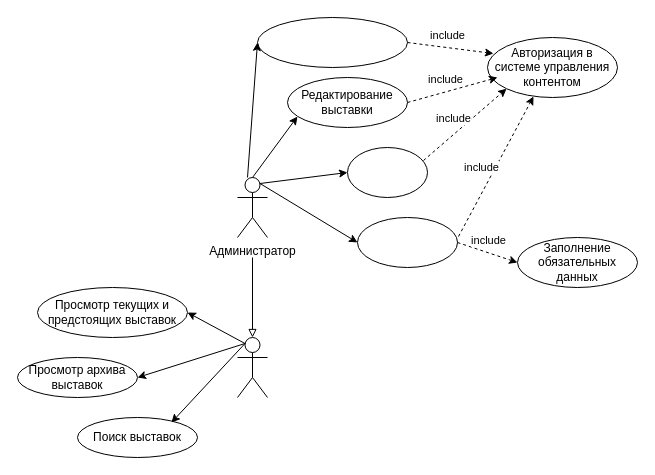
Some shapes in this 655 by 475 pixel diagram are drawn without their labels. Here are the shapes that lost their labels. From the top down, the box of each, then its label:
(256, 16, 408, 68): Принудительная архивация выставки
(346, 146, 428, 198): Удаление выставки
(356, 216, 458, 268): Добавление выставки
(236, 336, 268, 398): Пользователь
